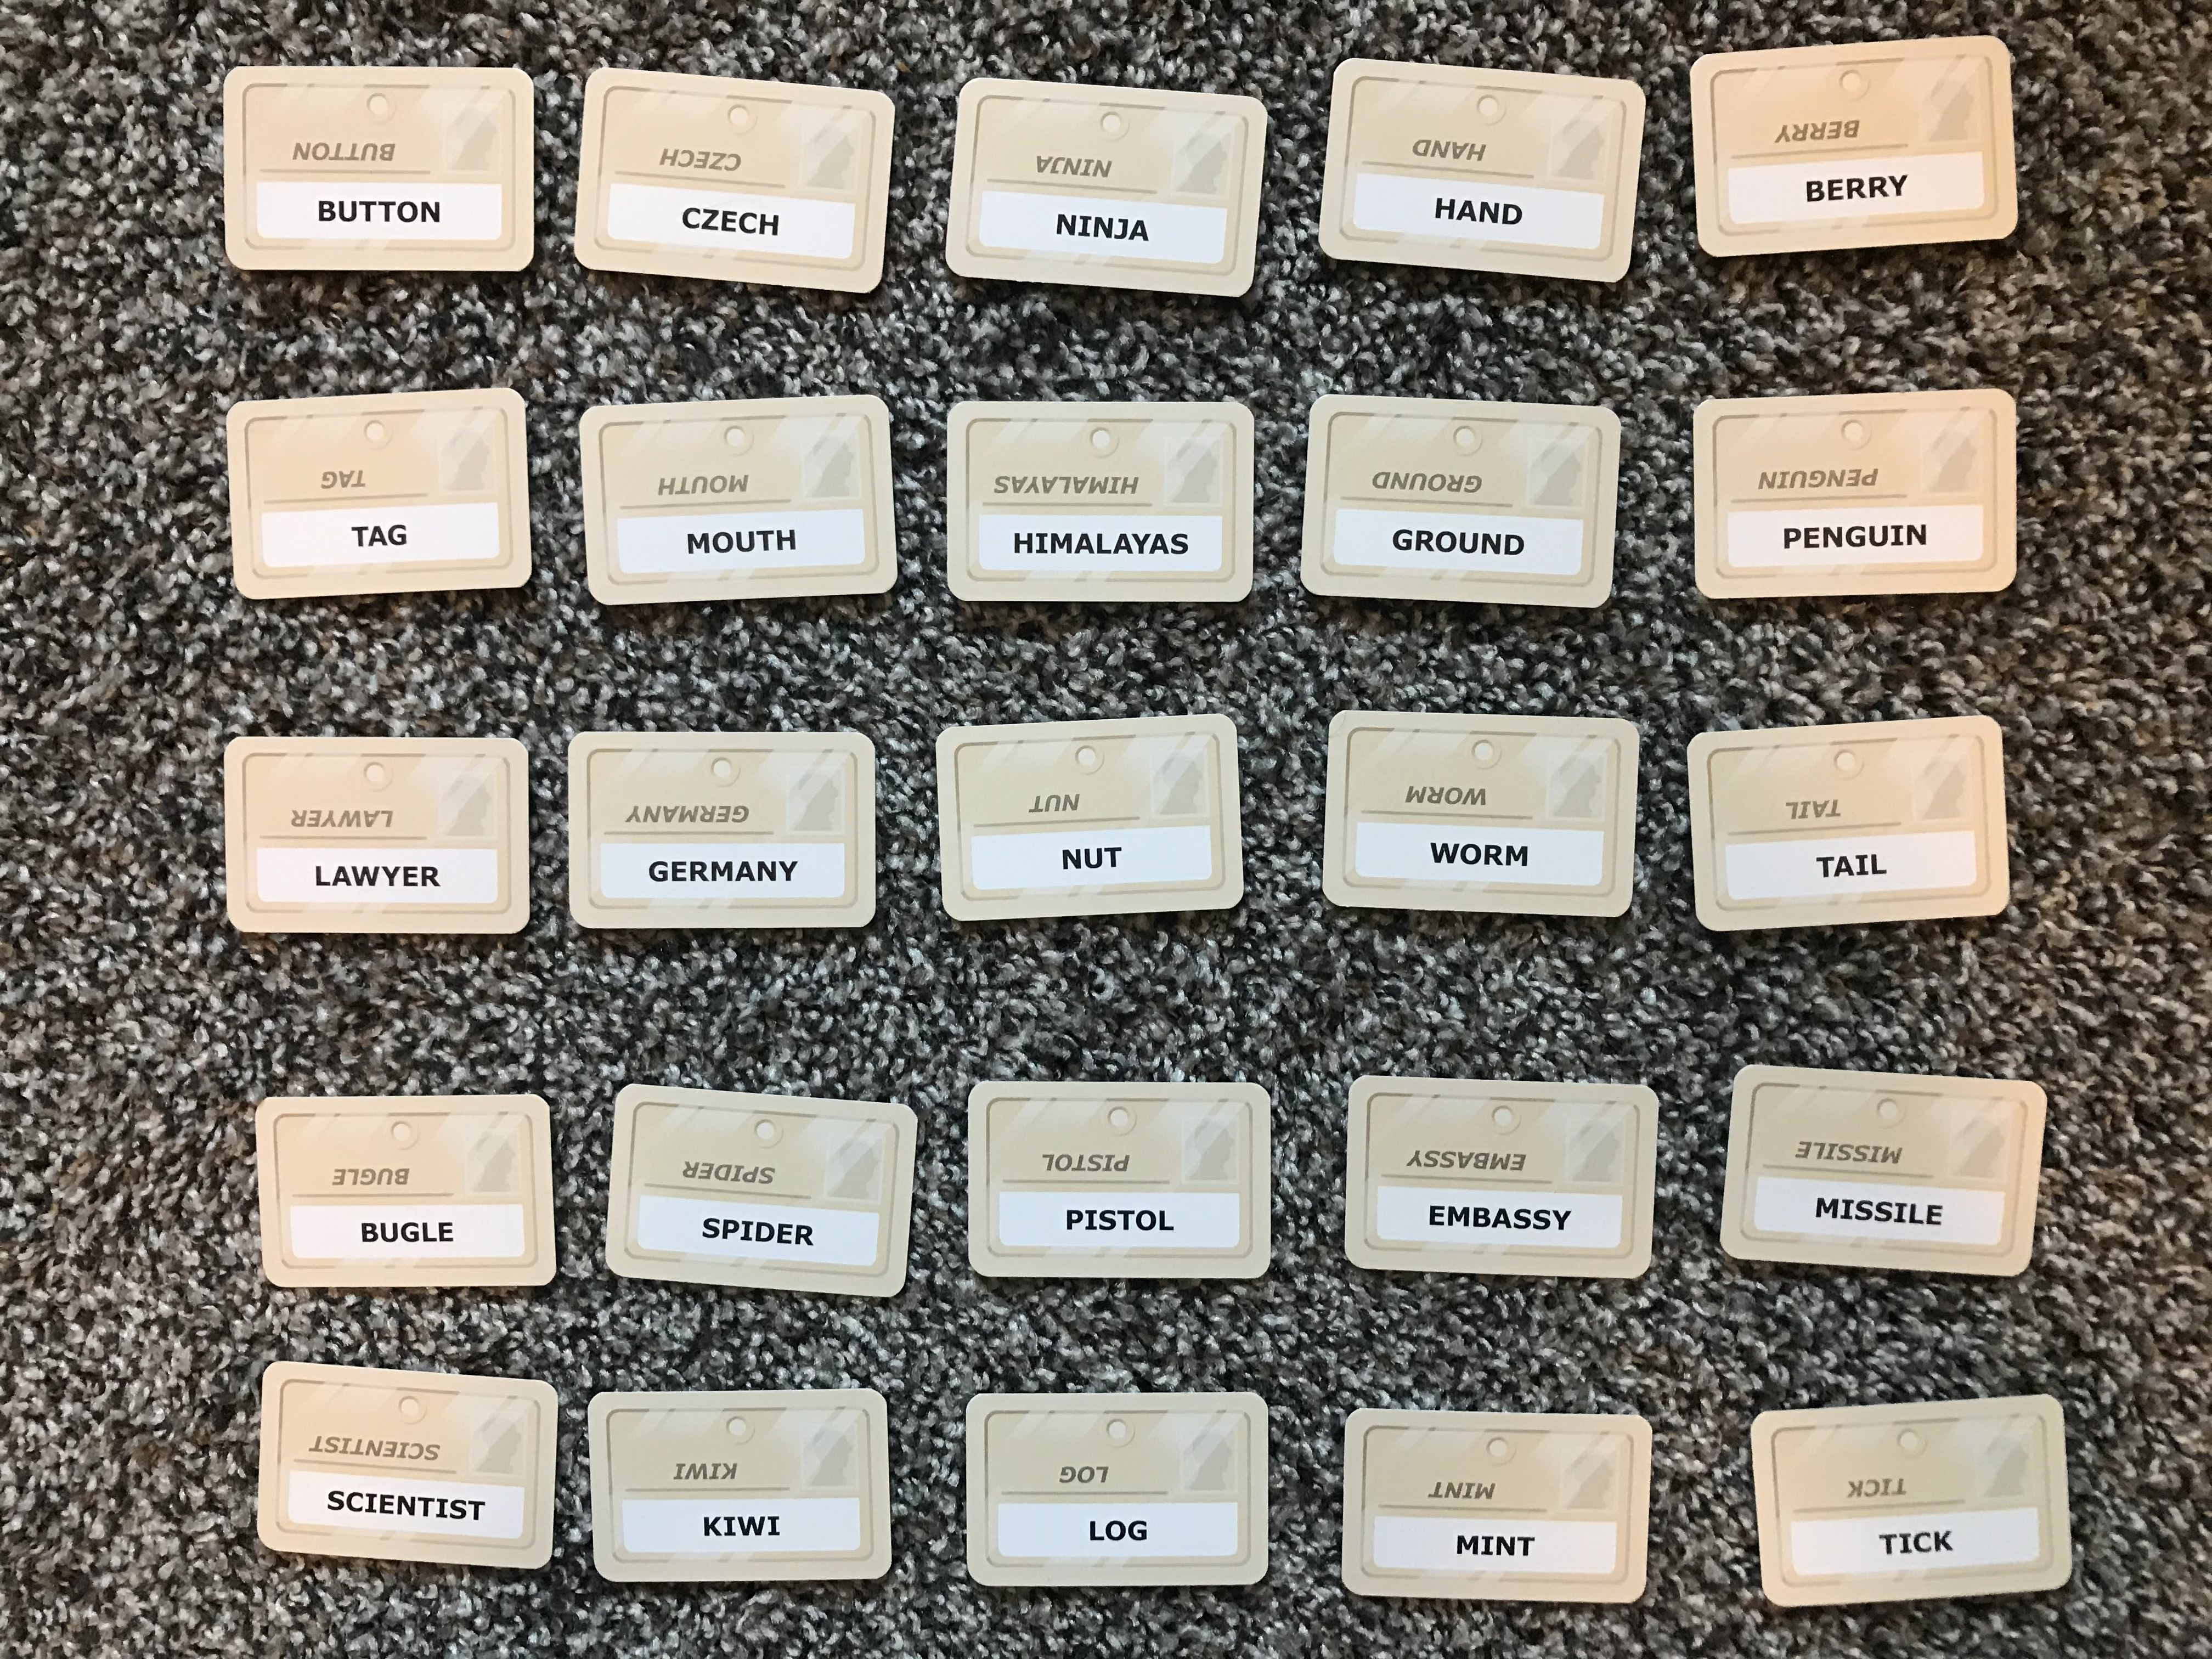A: (1489, 1202, 1514, 1236), (733, 852, 754, 890), (1831, 852, 1855, 884), (1454, 193, 1475, 228), (1075, 526, 1094, 559), (331, 863, 350, 894), (368, 523, 385, 556)
